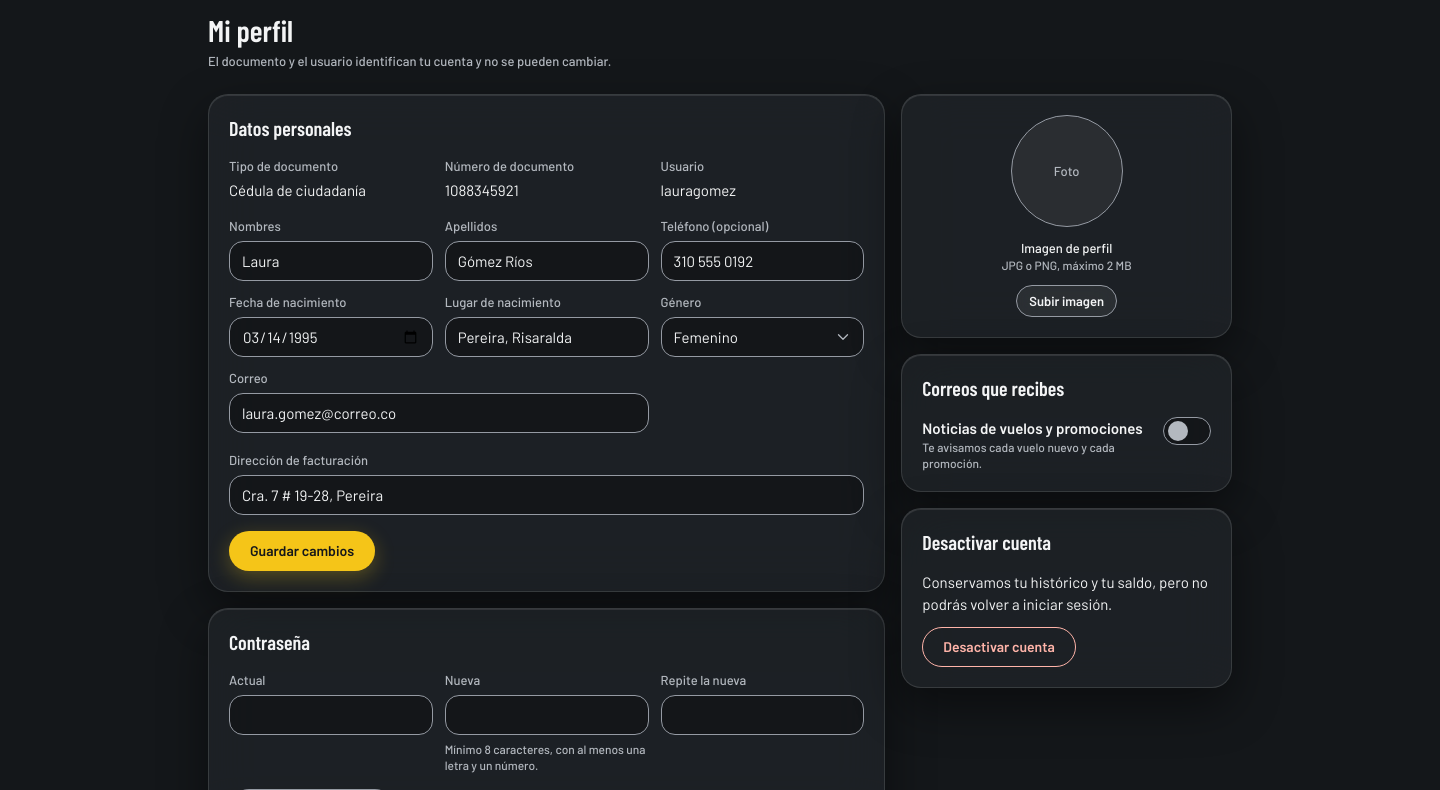
Scenario: S05 · Datos personales (HU-07) › rechaza un correo que ya usa otra cuenta, junto al campo
Replace the text in the field labelled "Correo" with "pedro@correo.co" at point(439, 413), box [229, 393, 648, 433]
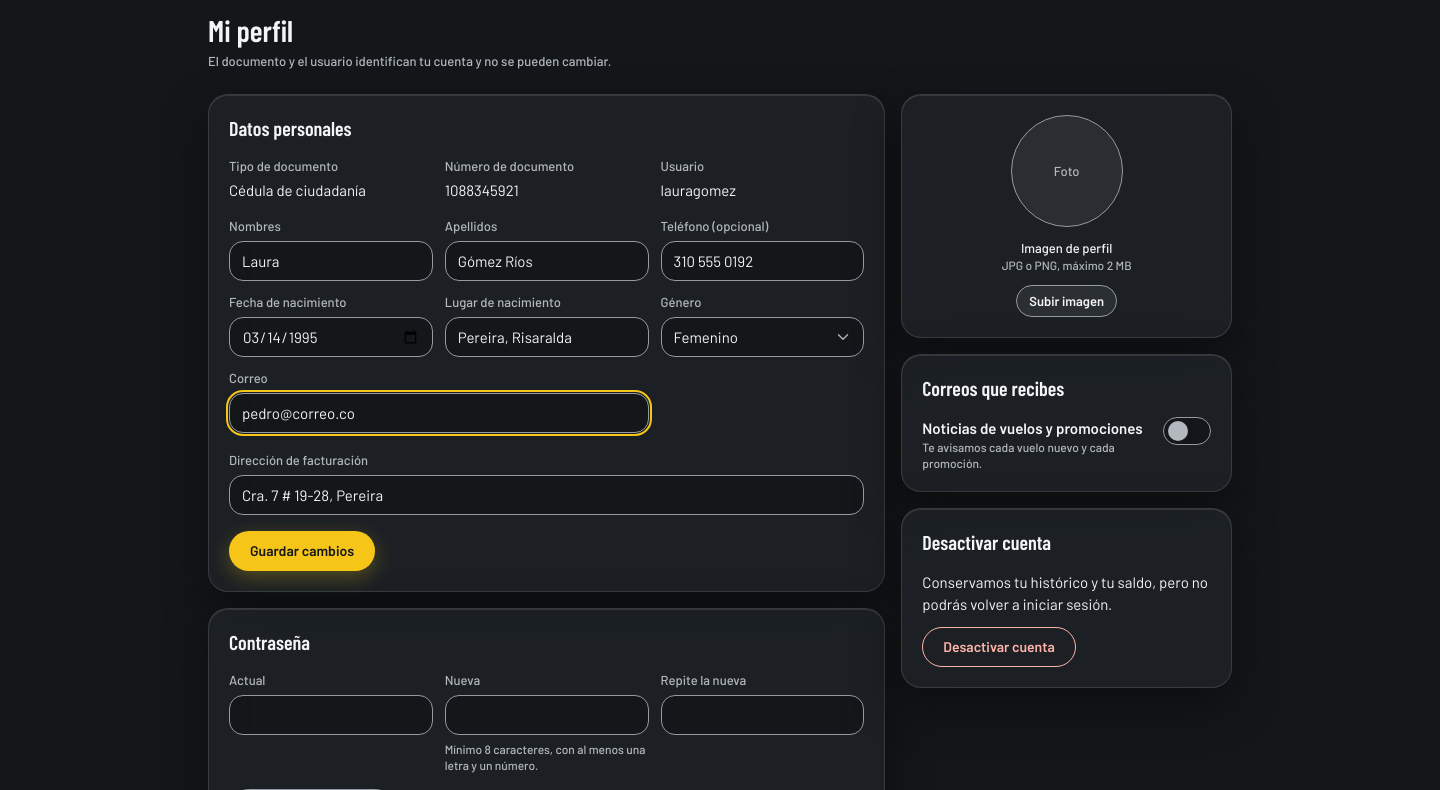
Click the button "Guardar cambios" at point(302, 551), box [229, 531, 375, 571]
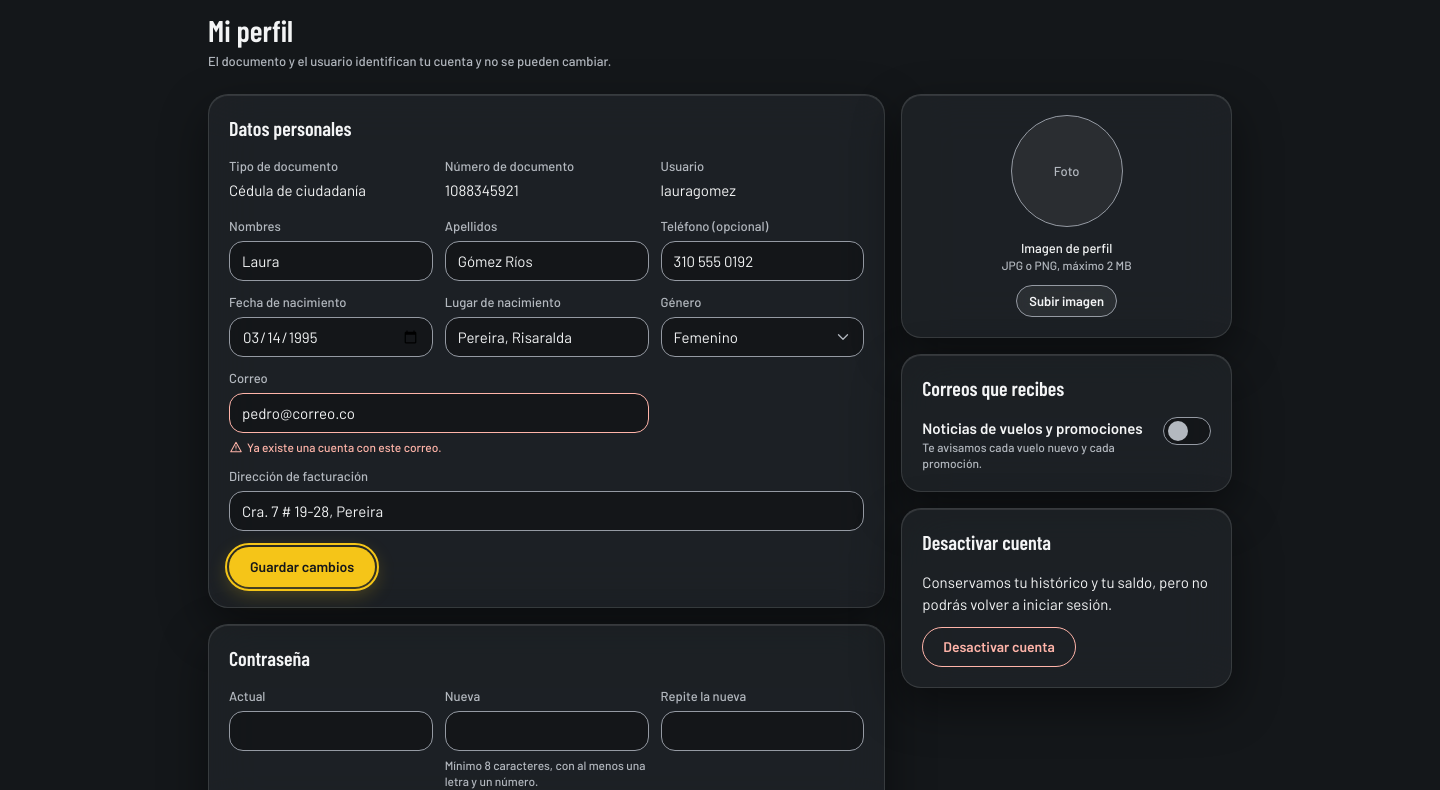
Expected: the text "Ya existe una cuenta con este correo." is shown, [229, 440, 442, 454]
